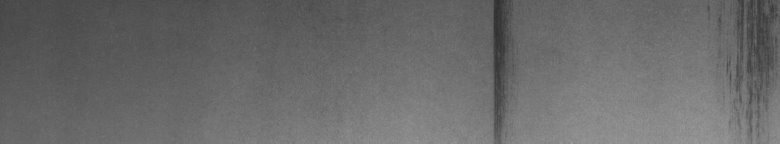ka: (707, 4, 776, 136)
